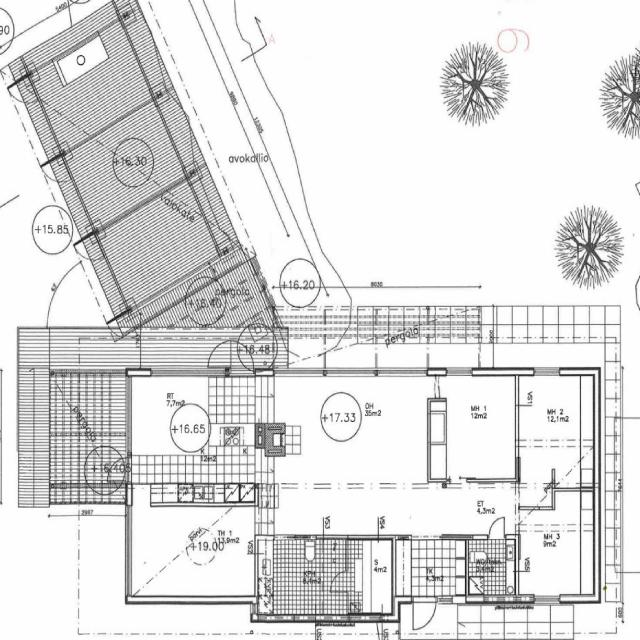door: (413, 597, 436, 631), (231, 342, 253, 376), (105, 457, 132, 482), (328, 570, 348, 591), (488, 518, 504, 540)
